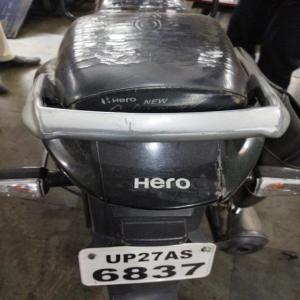Plate: (83, 244, 215, 287)
